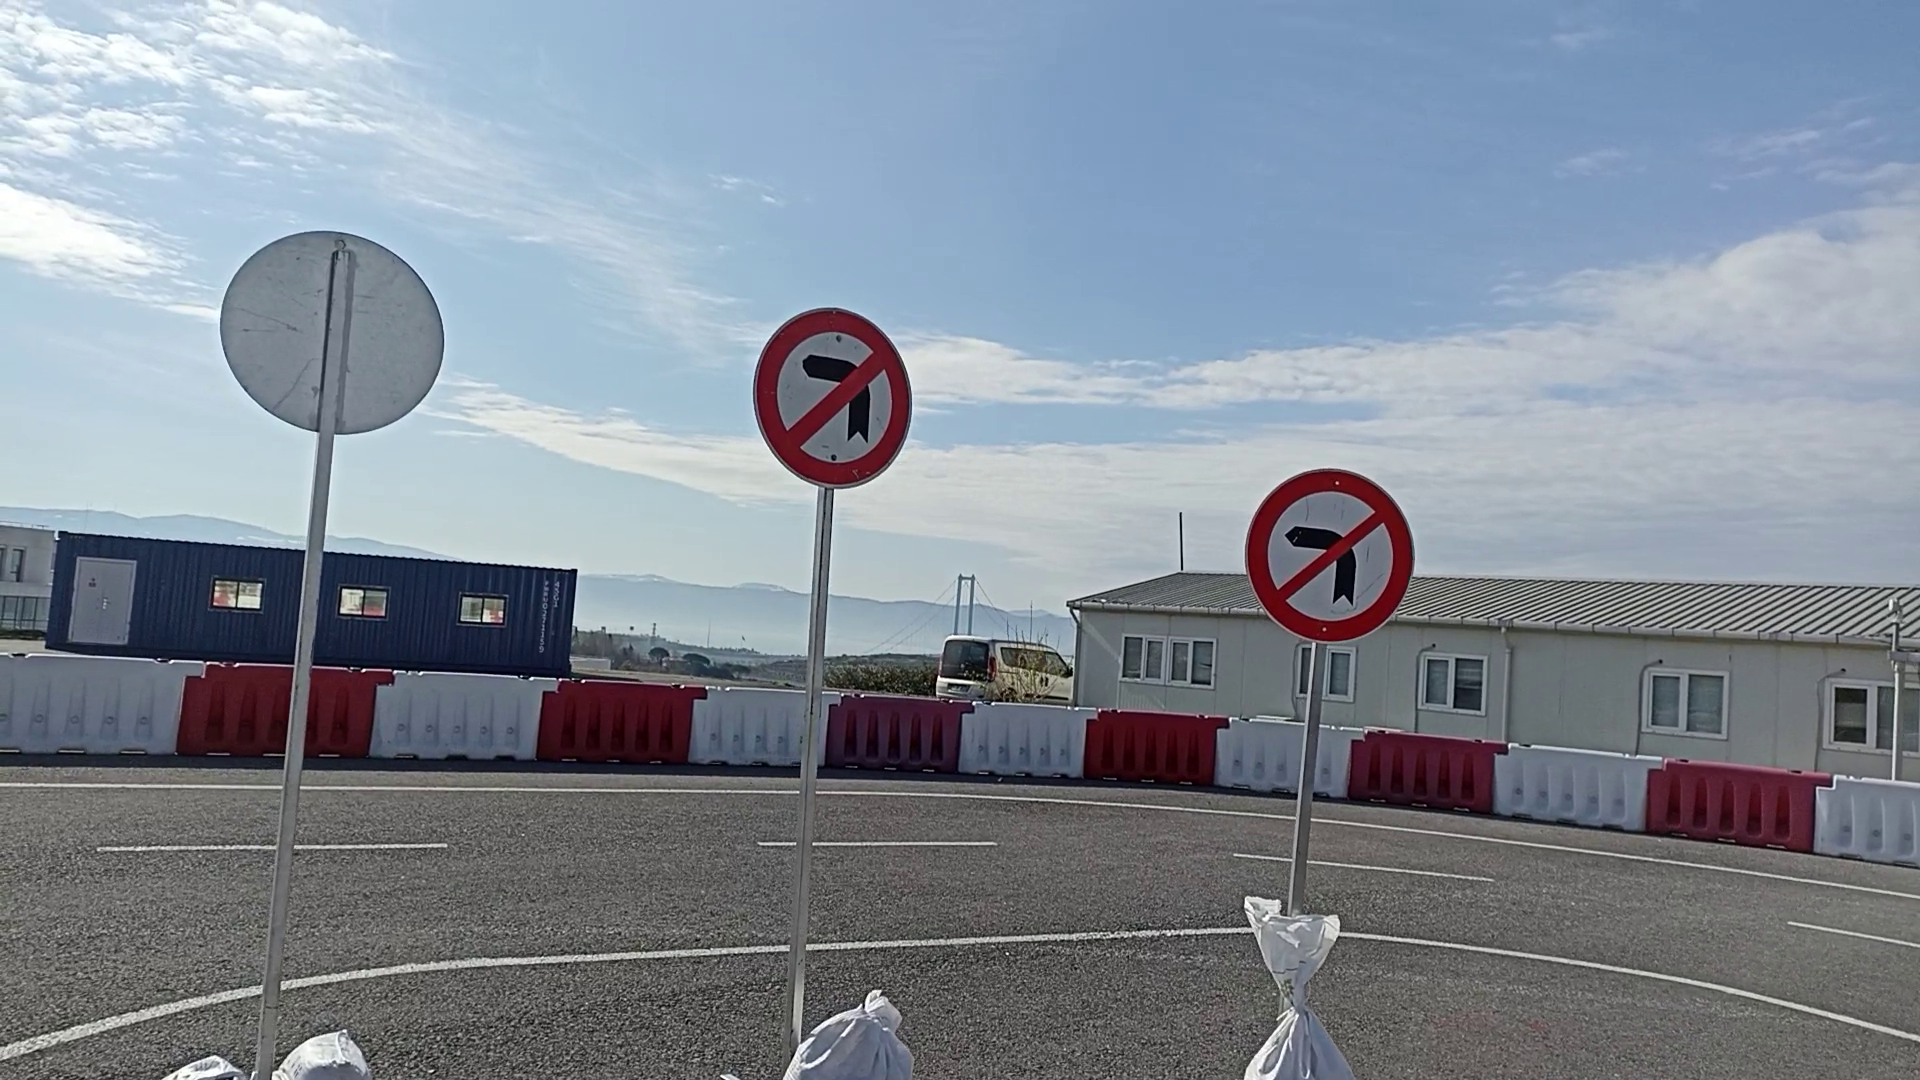noleft: (1242, 464, 1418, 644), (749, 305, 914, 495)
